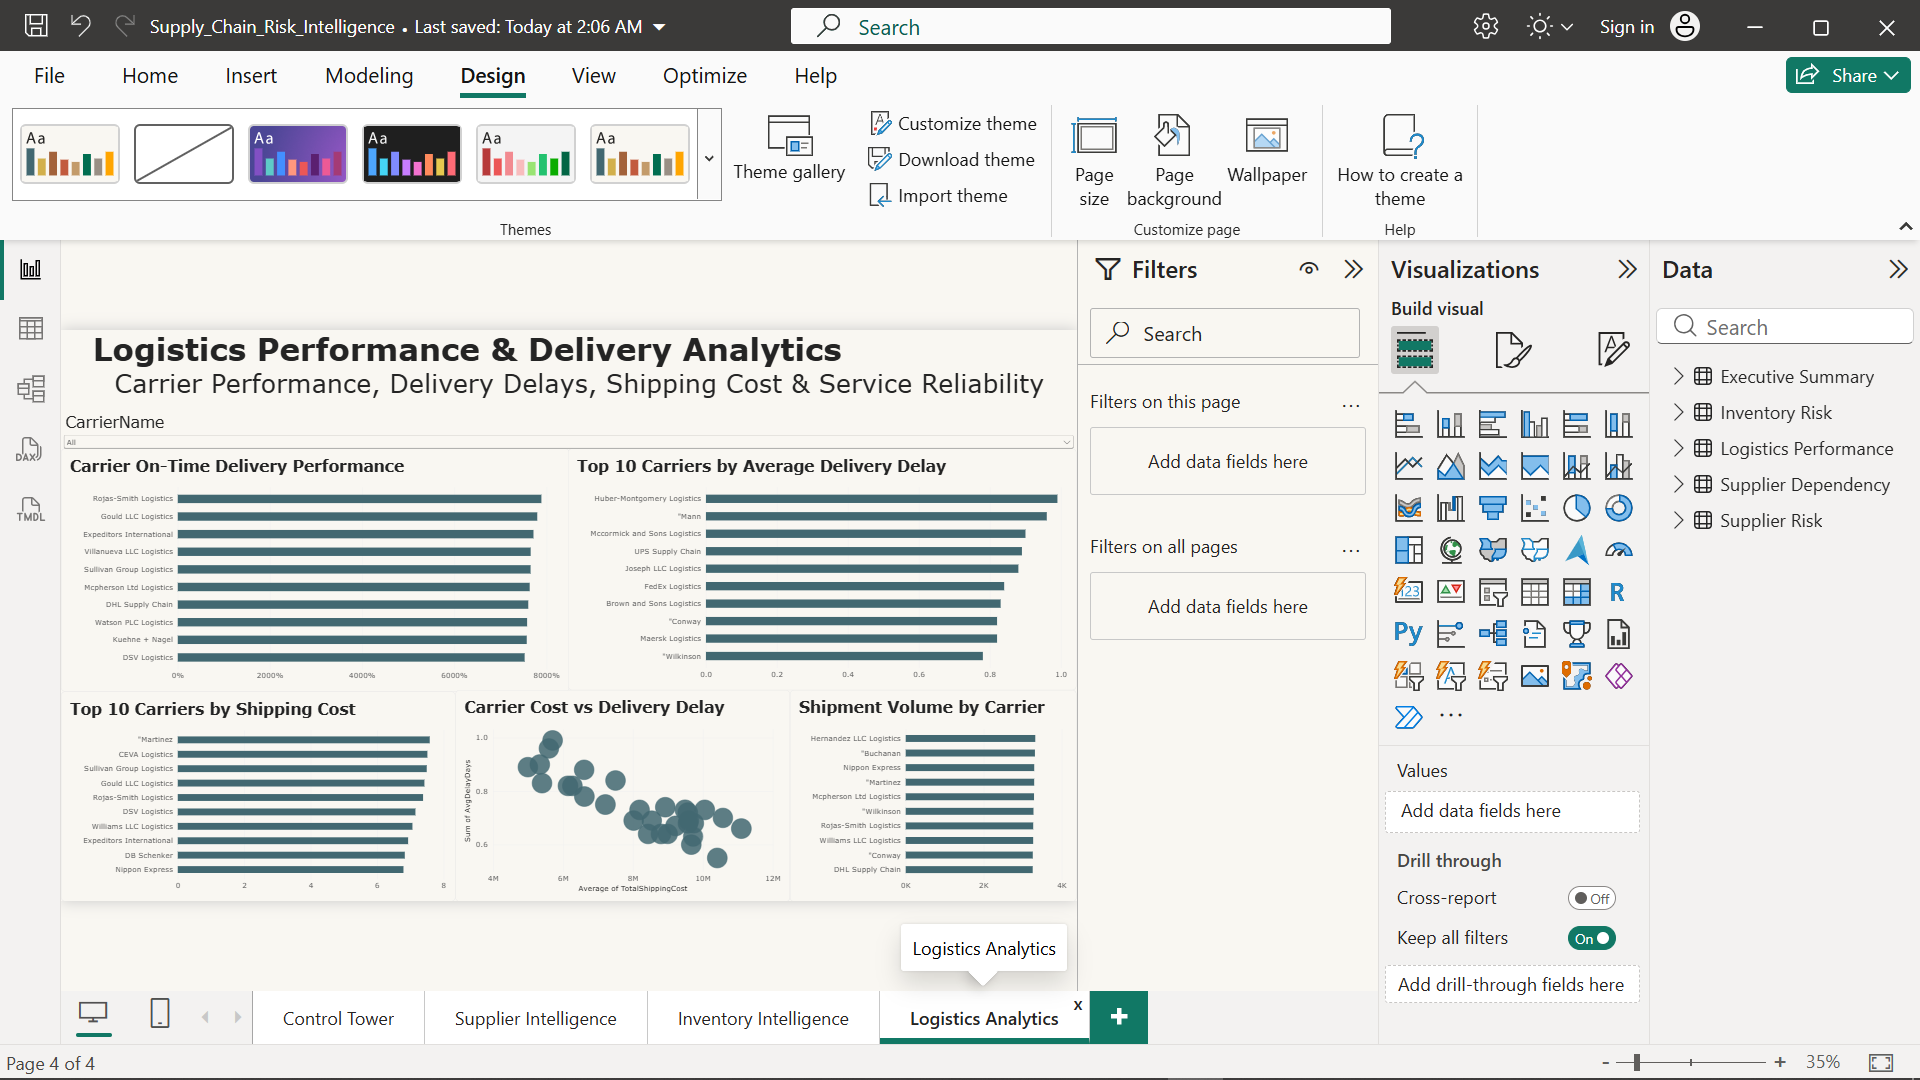

What the dashboard file says about the page in this screenshot:
{"tool":"powerbi","page":{"name":"Logistics Analytics","canvas":[1920,1080],"ordinal":3},"visuals":[{"type":"textbox","box":[0,0,1919.1,155.9],"z":0},{"type":"barChart","title":"Carrier On-Time Delivery Performance","fields":{"Category":["Logistics Performance.CarrierName"],"Y":["Sum(Logistics Performance.OnTimeDeliveryPct)"]},"box":[0,223.9,961,459.2],"z":1},{"type":"barChart","title":"Top 10 Carriers by Average Delivery Delay","fields":{"Category":["Logistics Performance.CarrierName"],"Y":["Avg(Logistics Performance.AvgDelayDays)"]},"box":[958.1,223.9,961,456.4],"z":2},{"type":"barChart","title":"Top 10 Carriers by Shipping Cost","fields":{"Category":["Logistics Performance.CarrierName"],"Y":["Sum(Logistics Performance.ShippingCostPerUnit)"]},"box":[0,683.2,745.5,396.9],"z":3},{"type":"scatterChart","title":"Carrier Cost vs Delivery Delay","fields":{"Category":["Logistics Performance.CarrierName"],"Size":["Sum(Logistics Performance.TotalShipments)"],"X":["Avg(Logistics Performance.TotalShippingCost)"],"Y":["Sum(Logistics Performance.AvgDelayDays)"]},"box":[745.5,680.3,632.1,399.7],"z":4},{"type":"barChart","title":"Shipment Volume by Carrier","fields":{"Category":["Logistics Performance.CarrierName"],"Y":["Sum(Logistics Performance.TotalShipments)"]},"box":[1378,680,541,400],"z":5},{"type":"slicer","fields":{"Values":["Logistics Performance.CarrierName"]},"box":[0,155.9,1919.1,68],"z":6}]}

Visuals, with their boxes on the page's 1920x1080 design canvas (x1, y1, x2, y2). These are canvas units, not pixel positions in the 1920x1080 screenshot, which may show the page scaled, cropped or inside an application window:
textbox: {"left": 0, "top": 0, "right": 1919, "bottom": 156}
"Carrier On-Time Delivery Performance" barChart: {"left": 0, "top": 224, "right": 961, "bottom": 683}
"Top 10 Carriers by Average Delivery Delay" barChart: {"left": 958, "top": 224, "right": 1919, "bottom": 680}
"Top 10 Carriers by Shipping Cost" barChart: {"left": 0, "top": 683, "right": 746, "bottom": 1080}
"Carrier Cost vs Delivery Delay" scatterChart: {"left": 746, "top": 680, "right": 1378, "bottom": 1080}
"Shipment Volume by Carrier" barChart: {"left": 1378, "top": 680, "right": 1919, "bottom": 1080}
slicer - Logistics Performance.CarrierName: {"left": 0, "top": 156, "right": 1919, "bottom": 224}
